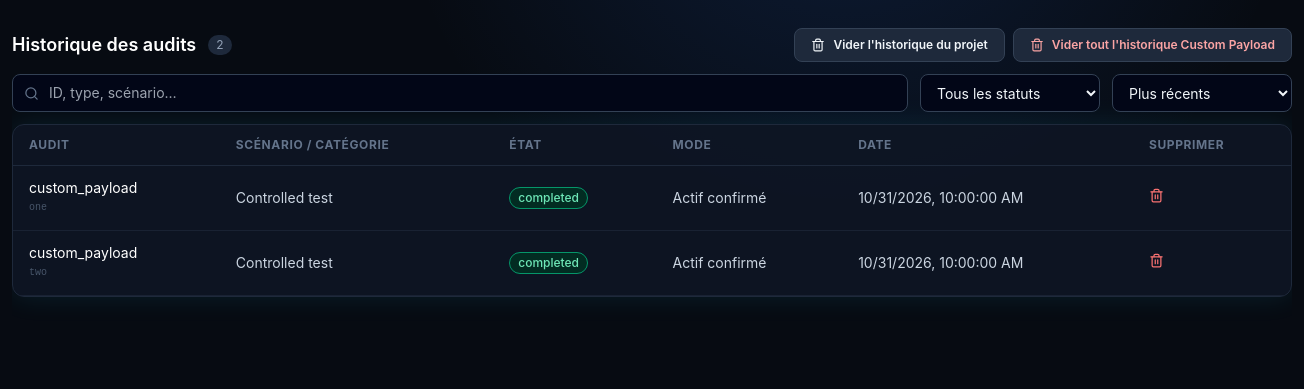
it: confirmed audit history cleanup › refuses to clear a mixed-project list from the project button
Click the button "Vider l'historique du projet": (900, 45) [794,28,1005,62]
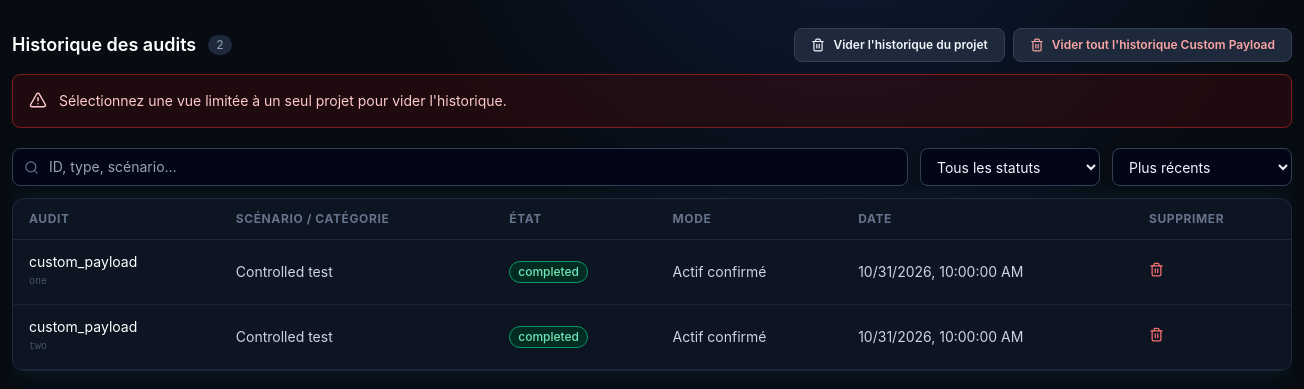
Expected: the text "Sélectionnez une vue limitée à un seul projet pour vider l'historique." is shown, [12,74,1292,128]
